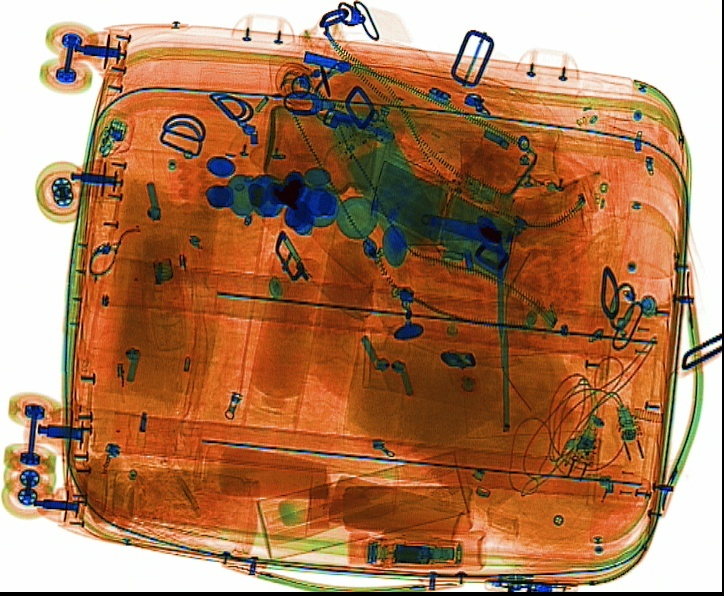powerbank: (367, 150, 524, 282)
